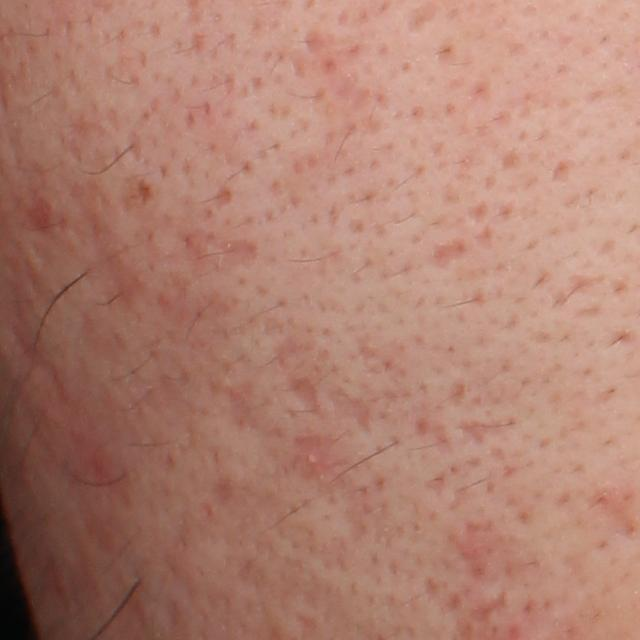atrophic_scar: (308, 30, 372, 115), (446, 515, 503, 585), (291, 433, 347, 482), (328, 388, 376, 438), (452, 418, 521, 452), (210, 237, 262, 275), (466, 591, 512, 627), (291, 375, 325, 420), (430, 237, 471, 272), (449, 383, 469, 407), (423, 475, 444, 495)
